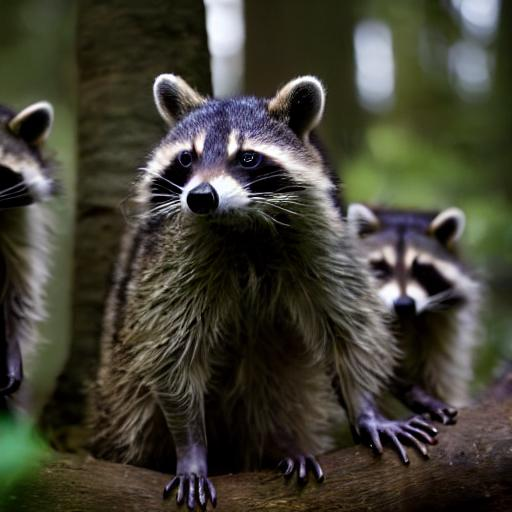raccoon: (97, 66, 395, 418), (348, 194, 489, 403), (0, 96, 68, 381)
